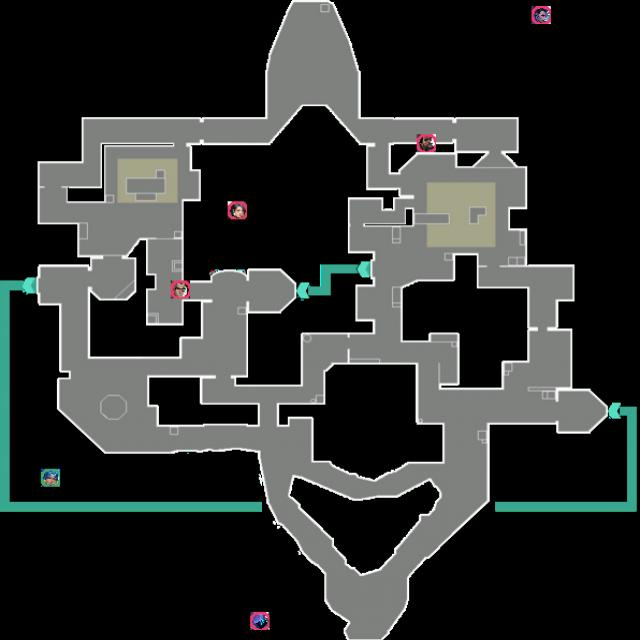atk_chamber: (171, 280, 190, 298)
atk_harbor: (417, 134, 436, 152)
atk_omen: (250, 612, 270, 630)
atk_sage: (228, 202, 247, 220)
atk_yoru: (531, 6, 551, 24)
def_neon: (41, 468, 60, 486)
